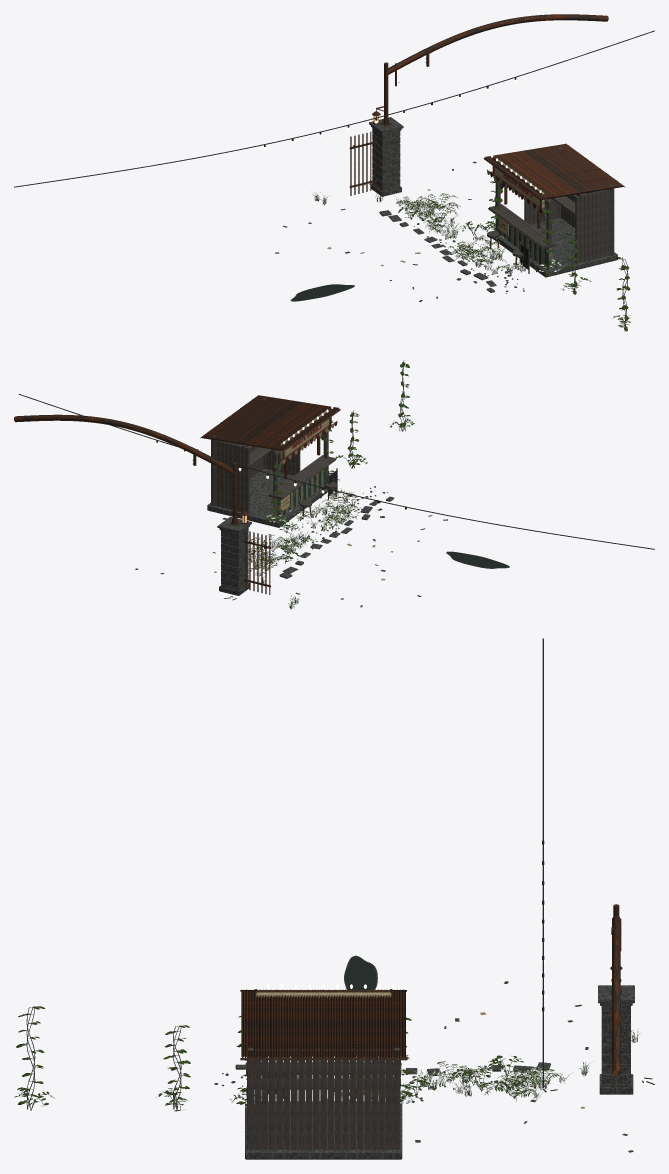
The model's file is SM_Env_Tile_m1_m2.fbx.
The picture shows the model from 3 angles, top to bottom: view 1: azimuth 30°, elevation 25°; view 2: azimuth 150°, elevation 25°; view 3: azimuth 270°, elevation 25°; orthographic projection. The views are drawn at different scales.
Parts seen in each view (by area): view 1: SM_Env_Tile_m1_m2; view 2: SM_Env_Tile_m1_m2; view 3: SM_Env_Tile_m1_m2.
Boxes of the visible parts, left/top/right/bottom form: SM_Env_Tile_m1_m2: left=14, top=14, right=654, bottom=331; SM_Env_Tile_m1_m2: left=14, top=360, right=654, bottom=609; SM_Env_Tile_m1_m2: left=14, top=638, right=654, bottom=1159.
Size of what is drawn, in the model's own units: 2900 by 1752 by 610.
